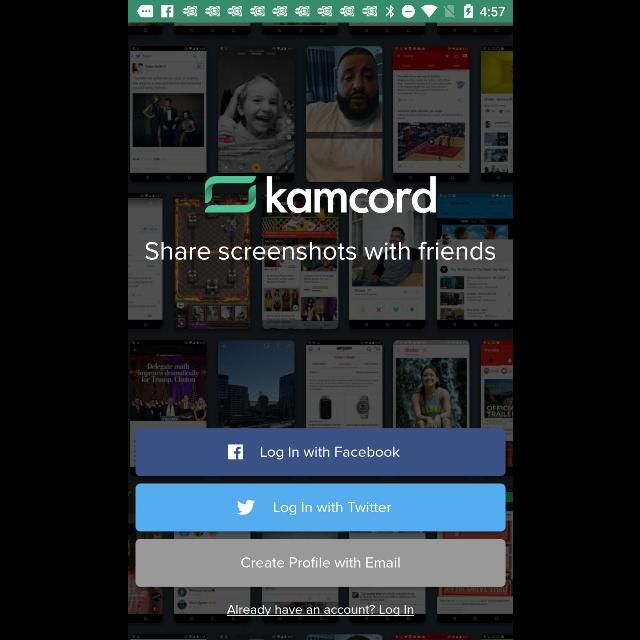backgroundimage: (128, 22, 512, 640)
image: (204, 175, 436, 212)
text: (144, 242, 494, 260), (226, 604, 414, 616)
textbutton: (136, 539, 504, 587), (136, 484, 504, 532), (136, 428, 504, 476)
uppertaskbar: (128, 1, 512, 23)
